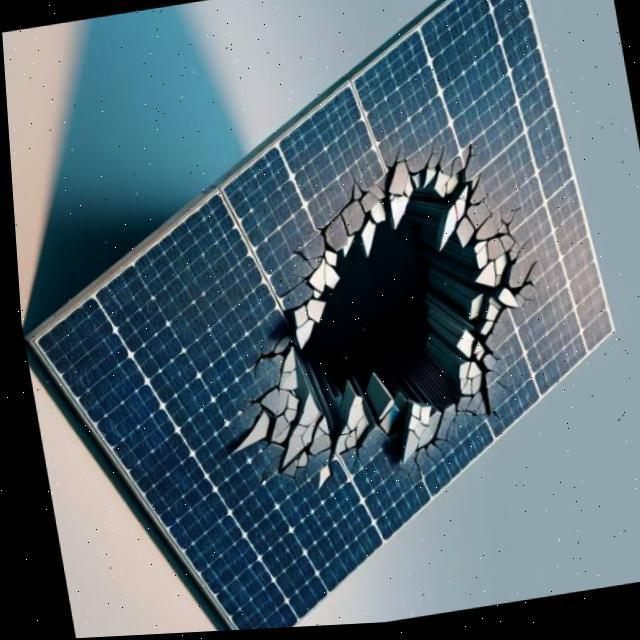Anomaly Solar Panel: (27, 0, 609, 632)
Structural Damage: (219, 102, 581, 553)
